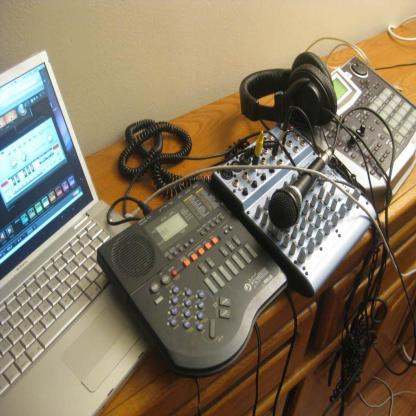board: (0, 46, 156, 414)
